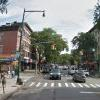Crosswalk: (26, 73, 92, 98)
